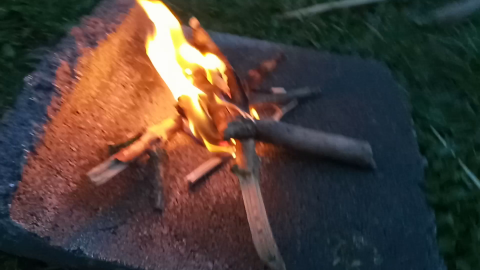fire: (139, 1, 247, 135)
